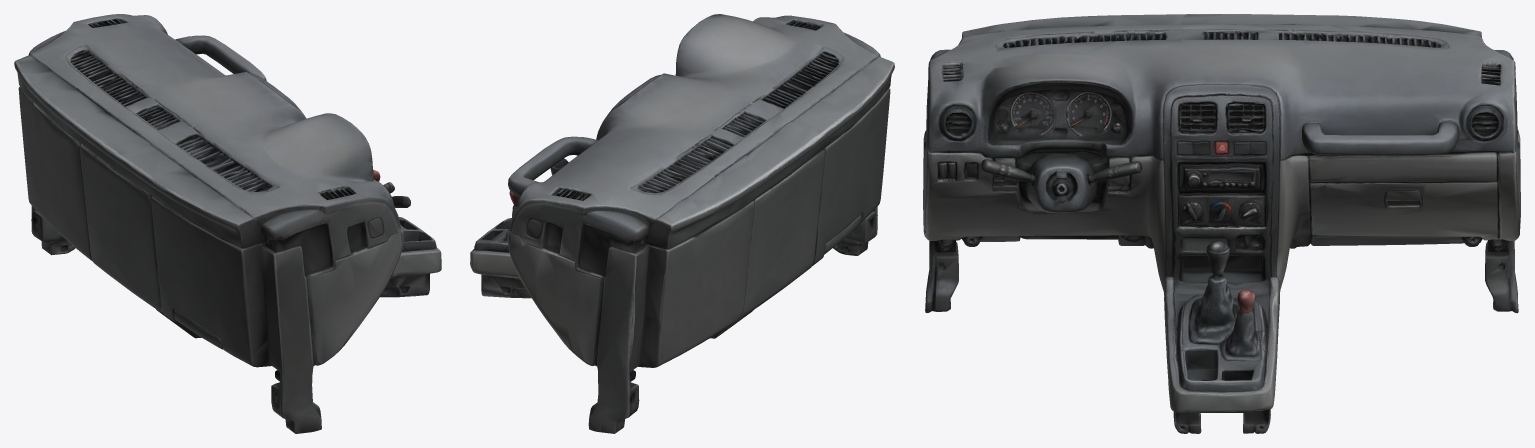
File: plancia.glb
The picture shows the model from 3 angles, left to right: view 1: azimuth 30°, elevation 25°; view 2: azimuth 150°, elevation 25°; view 3: azimuth 270°, elevation 25°; orthographic projection. The views are drawn at different scales.
Visible parts, largest first — view 1: tripo_node_d732f62d-383a-44ce-aae0-236c3bf6a91f; view 2: tripo_node_d732f62d-383a-44ce-aae0-236c3bf6a91f; view 3: tripo_node_d732f62d-383a-44ce-aae0-236c3bf6a91f.
Part boxes in pixels (box(x1,y1,x2,y2)): tripo_node_d732f62d-383a-44ce-aae0-236c3bf6a91f: box(14, 14, 441, 433); tripo_node_d732f62d-383a-44ce-aae0-236c3bf6a91f: box(470, 14, 894, 433); tripo_node_d732f62d-383a-44ce-aae0-236c3bf6a91f: box(923, 14, 1520, 433).
Bounding box in the file's own units: 0.7234 × 0.5228 × 0.9999.
1 material, 1 textured.
